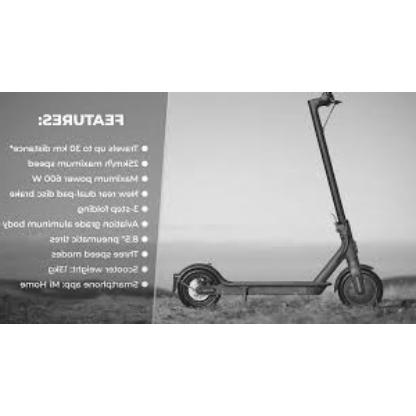bike: (161, 92, 385, 310)
car: (160, 93, 385, 310)
